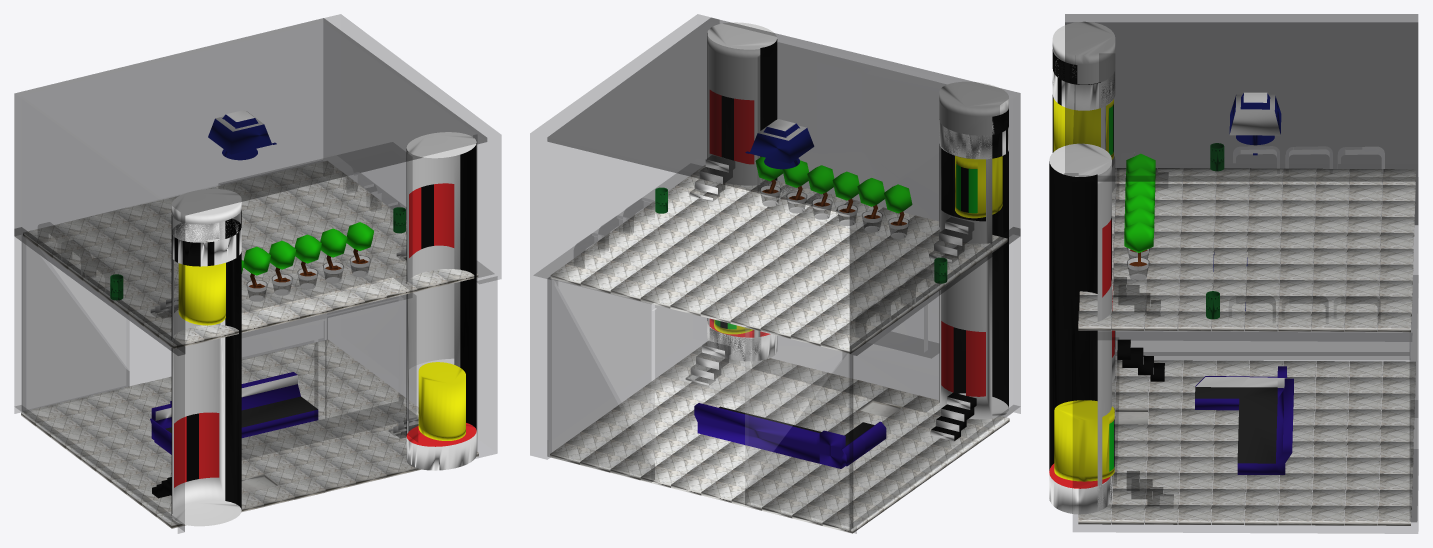
Rendered from utku scene.fbx.
3 views of the same model, side by side, from view 1: azimuth 30°, elevation 25°; view 2: azimuth 150°, elevation 25°; view 3: azimuth 270°, elevation 25° (orthographic). The views are drawn at different scales.
Visible parts, largest first — view 1: Cube.032; view 2: Cube.032; view 3: Cube.032.
Boxes of the visible parts, left/top/right/bottom form: Cube.032: left=14, top=14, right=501, bottom=533; Cube.032: left=530, top=14, right=1020, bottom=533; Cube.032: left=1049, top=14, right=1418, bottom=533.
Size of the model in its own units: 10391 by 9814 by 9416.
